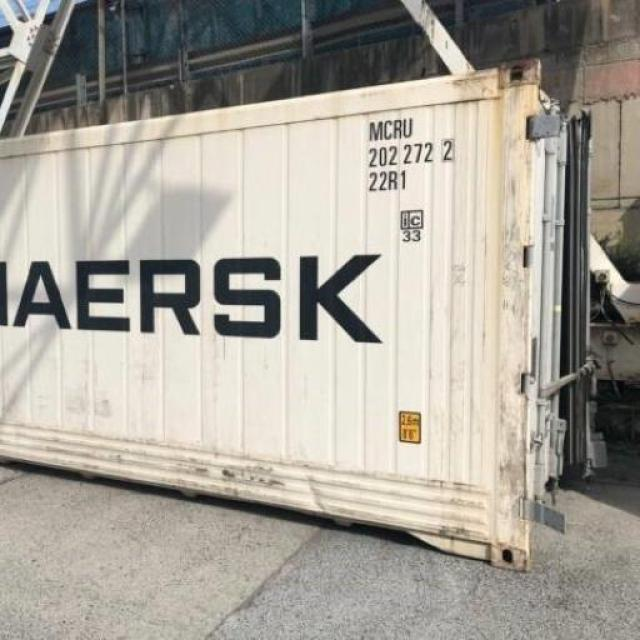ISO: (364, 168, 412, 198)
container_number: (370, 118, 455, 166)
